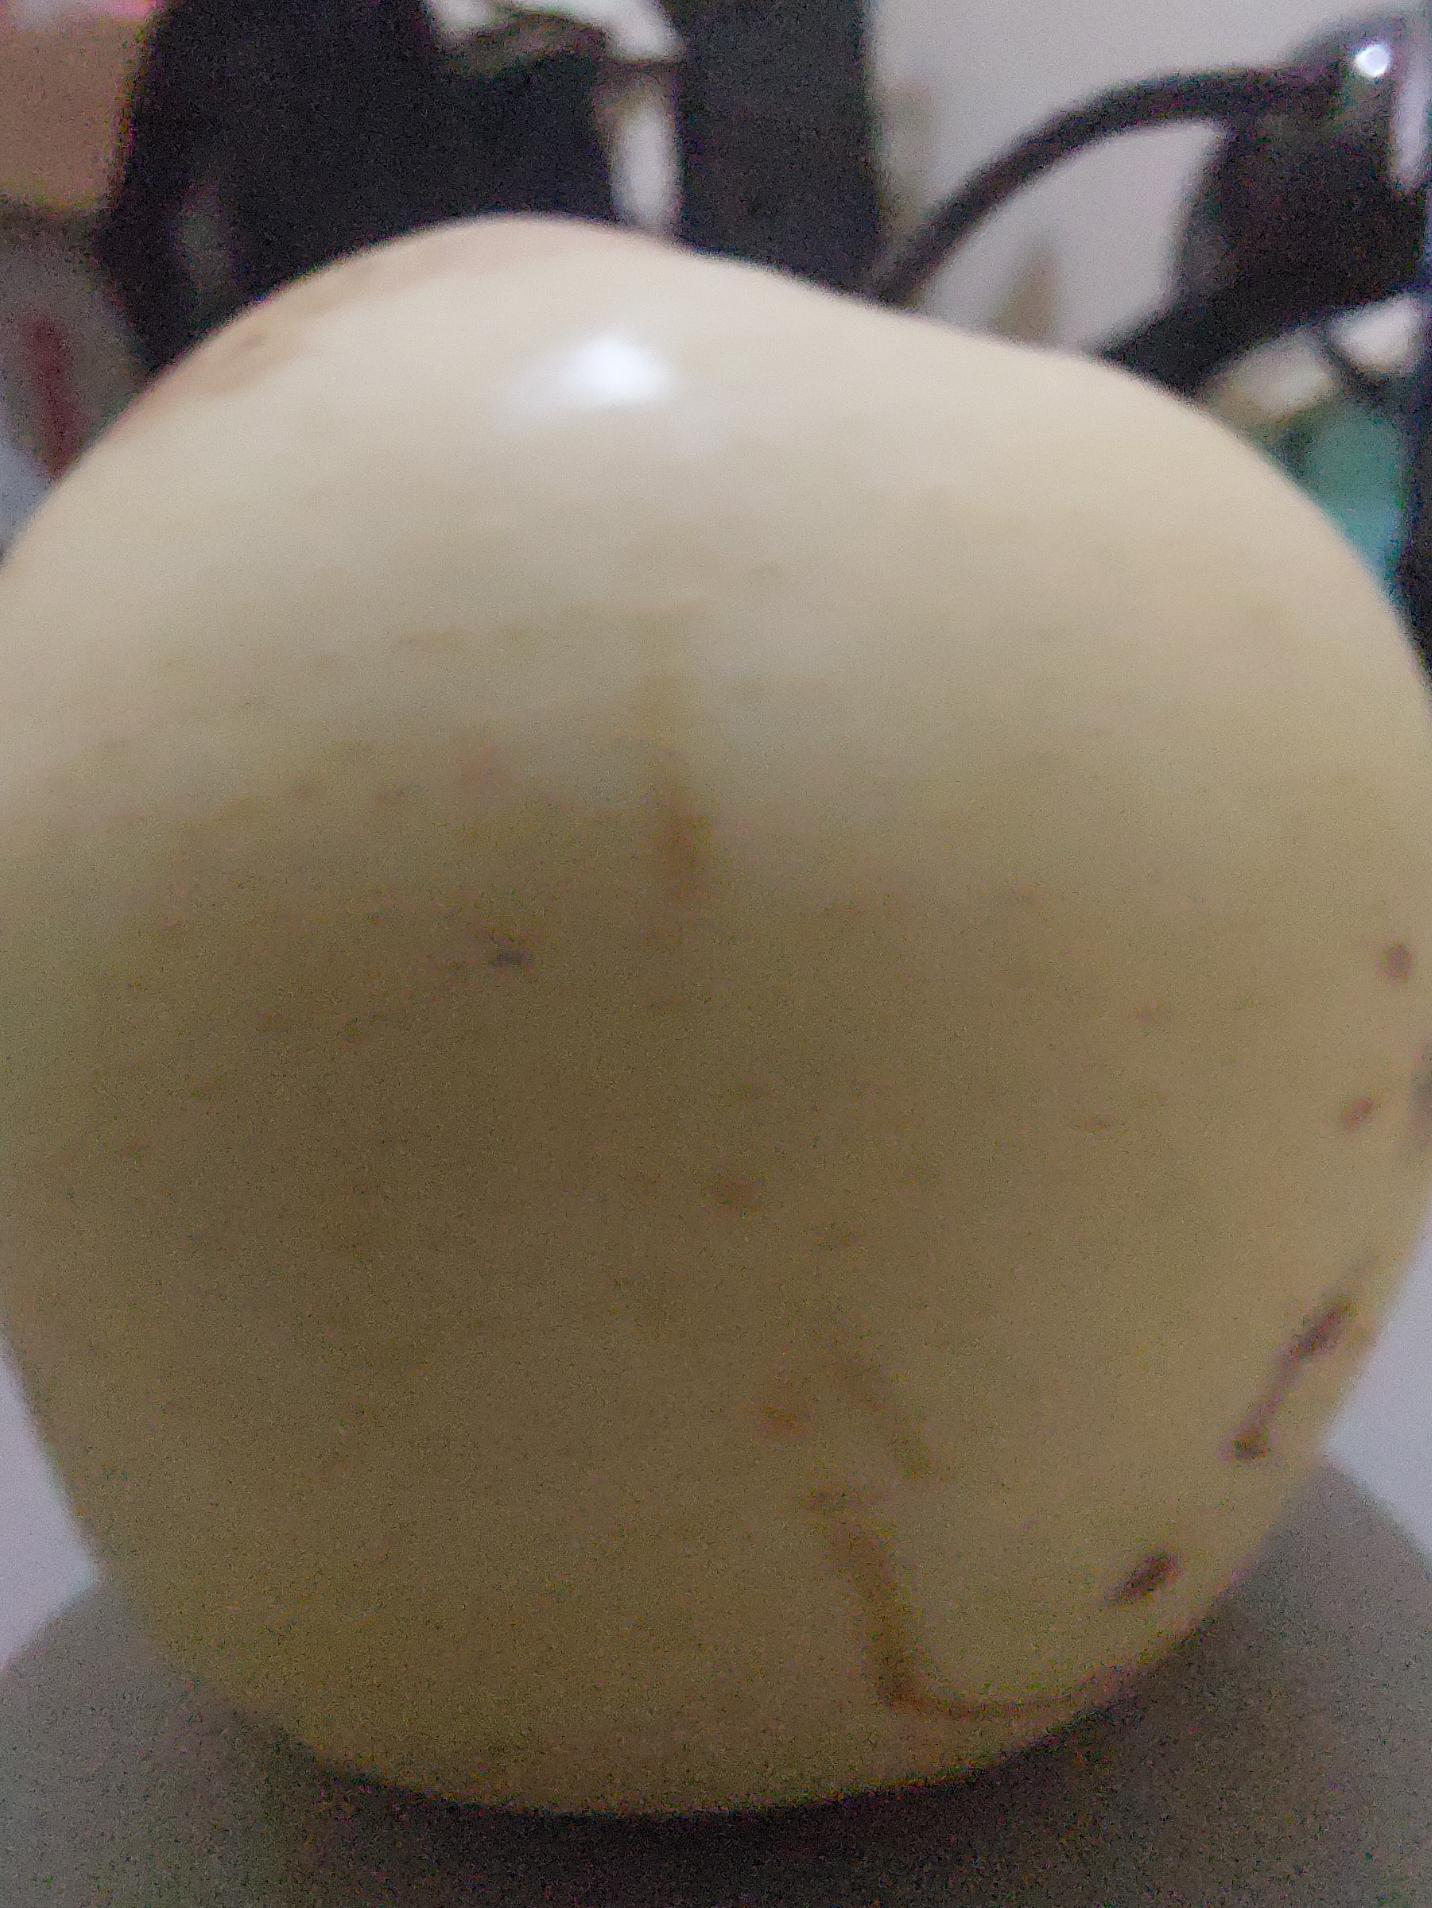Bad Pear: (0, 197, 1432, 1840)
